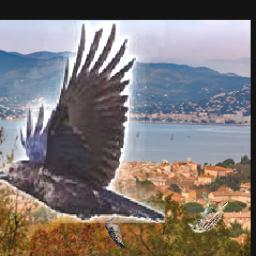Crow: (0, 22, 166, 224)
Sparrow: (187, 192, 228, 233)
Woodpecker: (104, 216, 125, 249)
